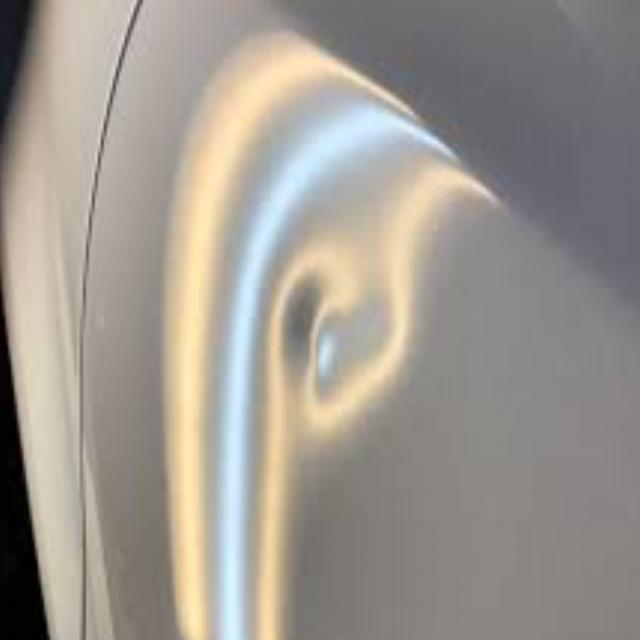dents: (312, 304, 405, 411)
